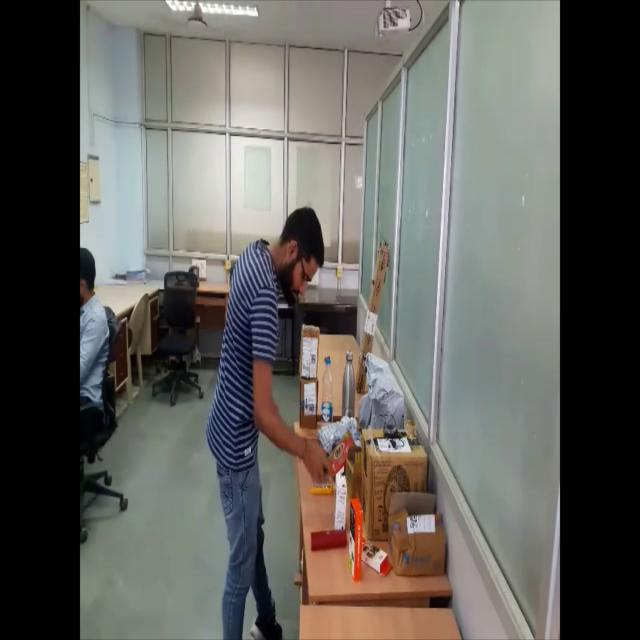normal: (202, 148, 333, 640)
